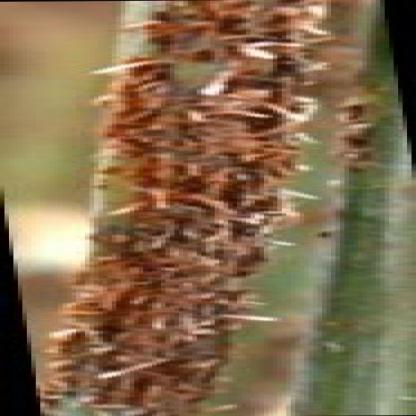wheat Stem Rust: (108, 7, 308, 232), (98, 241, 249, 408)
